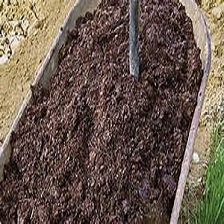loamy_soil: (8, 50, 207, 215)
